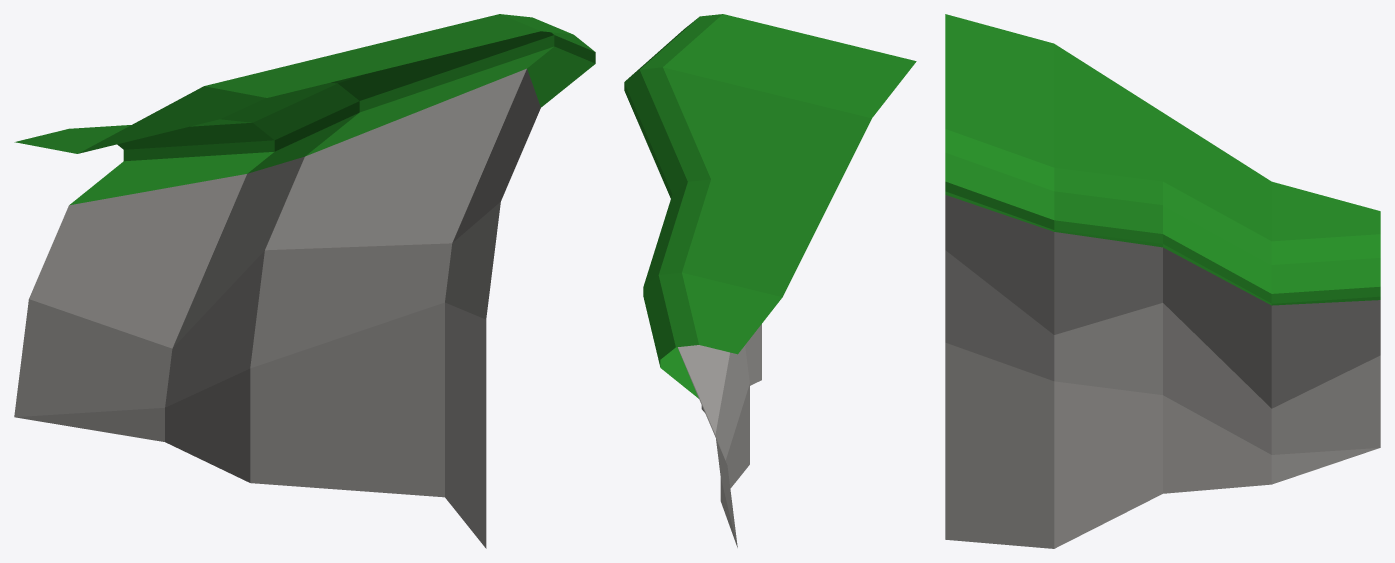
Rendered from Cliff_Terrain_Waterfall_Top.obj.
The picture shows the model from 3 angles, left to right: view 1: azimuth 30°, elevation 25°; view 2: azimuth 150°, elevation 25°; view 3: azimuth 270°, elevation 25°; orthographic projection. The views are drawn at different scales.
Parts seen in each view (by area): view 1: object1; view 2: object1; view 3: object1.
Part boxes in pixels (x1,y1,x2,y2): object1: [14, 14, 595, 548]; object1: [624, 14, 916, 547]; object1: [945, 14, 1380, 548].
Size of the model in its own units: 1.6 by 2.2 by 2.
